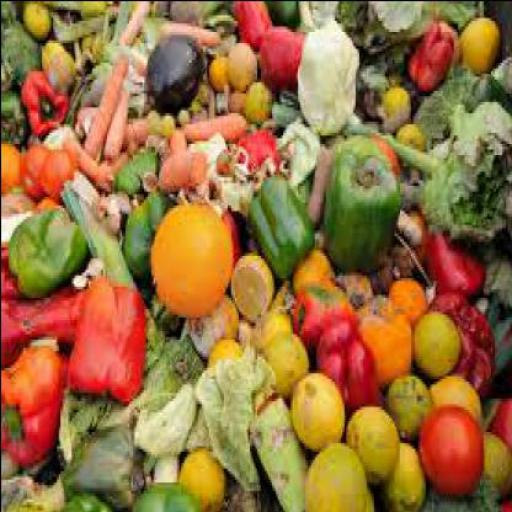biodegradable: (0, 1, 511, 511), (62, 166, 158, 352), (59, 305, 165, 462), (415, 75, 511, 231), (424, 95, 510, 236), (194, 339, 274, 487), (152, 196, 234, 310), (2, 339, 71, 467), (70, 280, 147, 392), (326, 151, 400, 263), (422, 285, 496, 392), (11, 201, 91, 297), (299, 11, 362, 132), (63, 420, 146, 509), (248, 167, 314, 266), (134, 325, 206, 413), (418, 400, 484, 492), (256, 389, 306, 509), (352, 290, 414, 386), (57, 389, 137, 459), (316, 319, 378, 402), (142, 333, 206, 412), (422, 221, 488, 293), (334, 1, 438, 46), (136, 374, 194, 454), (87, 53, 132, 156), (85, 50, 130, 152), (2, 238, 39, 360), (343, 400, 399, 479), (306, 440, 367, 510), (293, 369, 347, 448), (150, 28, 206, 104), (347, 112, 435, 160), (125, 186, 174, 272), (291, 280, 356, 342), (383, 366, 432, 443), (182, 291, 239, 353), (378, 440, 426, 510), (408, 16, 455, 86), (415, 305, 460, 378), (178, 442, 228, 506), (20, 68, 68, 134), (258, 327, 309, 389), (421, 470, 500, 510), (33, 277, 84, 338), (63, 128, 113, 188), (232, 246, 274, 316), (2, 465, 67, 509), (2, 16, 42, 86), (453, 53, 511, 101), (262, 23, 304, 87), (78, 97, 135, 143), (431, 370, 482, 416), (189, 106, 247, 146), (58, 8, 91, 78), (134, 478, 206, 509), (54, 5, 118, 39), (460, 14, 501, 67), (308, 145, 336, 222), (486, 294, 511, 379), (291, 241, 335, 288), (482, 425, 511, 496), (216, 160, 264, 202), (145, 18, 221, 44), (220, 467, 267, 509), (102, 78, 129, 151), (160, 145, 209, 185), (358, 55, 392, 112), (256, 297, 293, 347), (40, 142, 74, 196), (477, 391, 511, 442), (334, 266, 375, 308), (482, 240, 511, 298), (43, 37, 78, 84), (235, 1, 275, 42), (274, 84, 322, 118), (427, 0, 484, 28), (20, 142, 49, 196), (228, 36, 258, 87), (2, 86, 28, 143), (102, 40, 148, 70), (221, 201, 243, 263), (98, 185, 132, 224), (167, 1, 219, 26), (186, 398, 212, 448), (296, 0, 340, 28), (190, 128, 226, 162), (380, 80, 412, 118), (2, 137, 23, 193), (70, 484, 117, 509), (402, 204, 428, 249), (152, 447, 184, 482), (247, 76, 271, 122), (122, 2, 151, 40), (376, 252, 402, 294), (198, 0, 236, 28), (384, 38, 412, 76), (210, 336, 247, 363), (22, 2, 53, 34), (2, 207, 31, 241), (393, 179, 425, 207), (223, 205, 242, 252), (134, 142, 160, 174), (2, 188, 39, 210), (388, 246, 416, 275), (113, 160, 143, 187), (264, 1, 302, 22), (273, 274, 293, 313), (213, 142, 237, 174), (397, 117, 426, 143), (44, 120, 78, 142), (80, 28, 102, 62), (123, 115, 150, 142), (397, 207, 423, 235), (210, 50, 229, 87), (256, 378, 277, 408), (212, 31, 238, 55), (89, 59, 113, 81), (239, 313, 256, 344), (78, 84, 104, 103), (144, 101, 162, 128), (44, 0, 116, 6), (170, 124, 188, 148), (76, 1, 106, 15), (216, 84, 230, 114), (131, 67, 150, 89), (131, 90, 150, 112), (197, 76, 212, 102), (84, 249, 103, 269), (402, 165, 424, 182), (2, 446, 16, 472), (1, 1, 20, 20), (142, 168, 158, 190), (230, 87, 246, 109), (160, 107, 174, 131), (126, 184, 141, 206), (73, 268, 91, 286), (365, 478, 375, 509), (41, 190, 59, 205), (497, 492, 511, 511), (30, 128, 44, 146), (475, 290, 490, 306), (178, 104, 191, 120), (191, 90, 204, 106), (151, 1, 170, 11)
